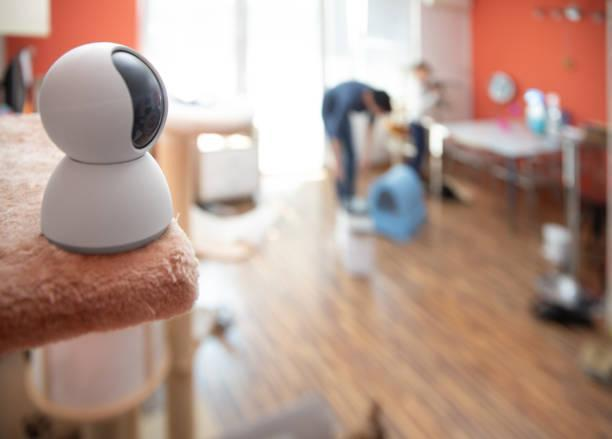camera: (16, 39, 189, 274)
